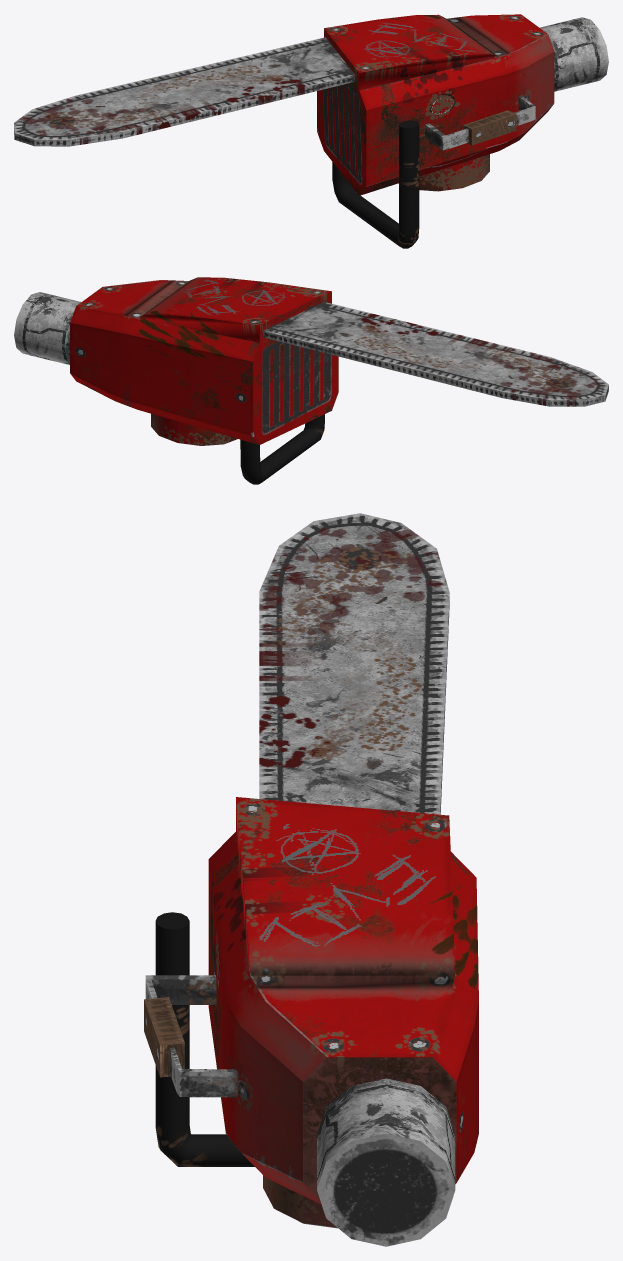
File: HANDS_CHAINSAW.fbx
3 renders of one model, top to bottom at view 1: azimuth 30°, elevation 25°; view 2: azimuth 150°, elevation 25°; view 3: azimuth 270°, elevation 25°, orthographic. The views are drawn at different scales.
Visible parts, largest first — view 1: HANDS_CHAINSAW_RIGHT; view 2: HANDS_CHAINSAW_RIGHT; view 3: HANDS_CHAINSAW_RIGHT.
Part boxes in pixels (x1=…): HANDS_CHAINSAW_RIGHT: x1=14, y1=14, x2=608, y2=248; HANDS_CHAINSAW_RIGHT: x1=14, y1=277, x2=608, y2=484; HANDS_CHAINSAW_RIGHT: x1=144, y1=513, x2=478, y2=1246.
Size of the model in its own units: 0.0841 by 0.0238 by 0.0215.
